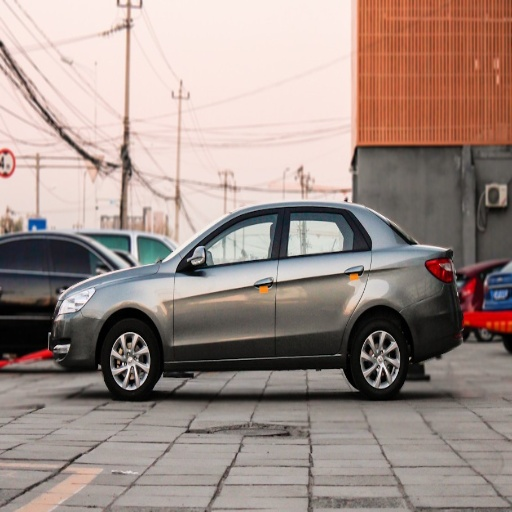back_left_door: (276, 206, 370, 353)
front_left_door: (173, 207, 284, 358)
